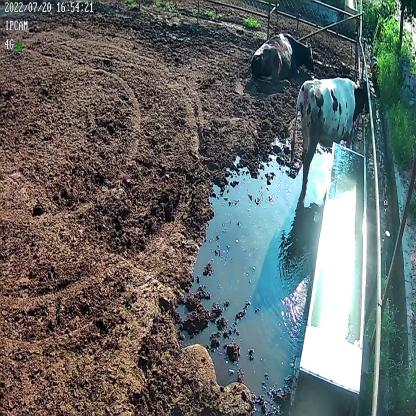cow: (290, 76, 372, 194), (249, 32, 315, 86)
